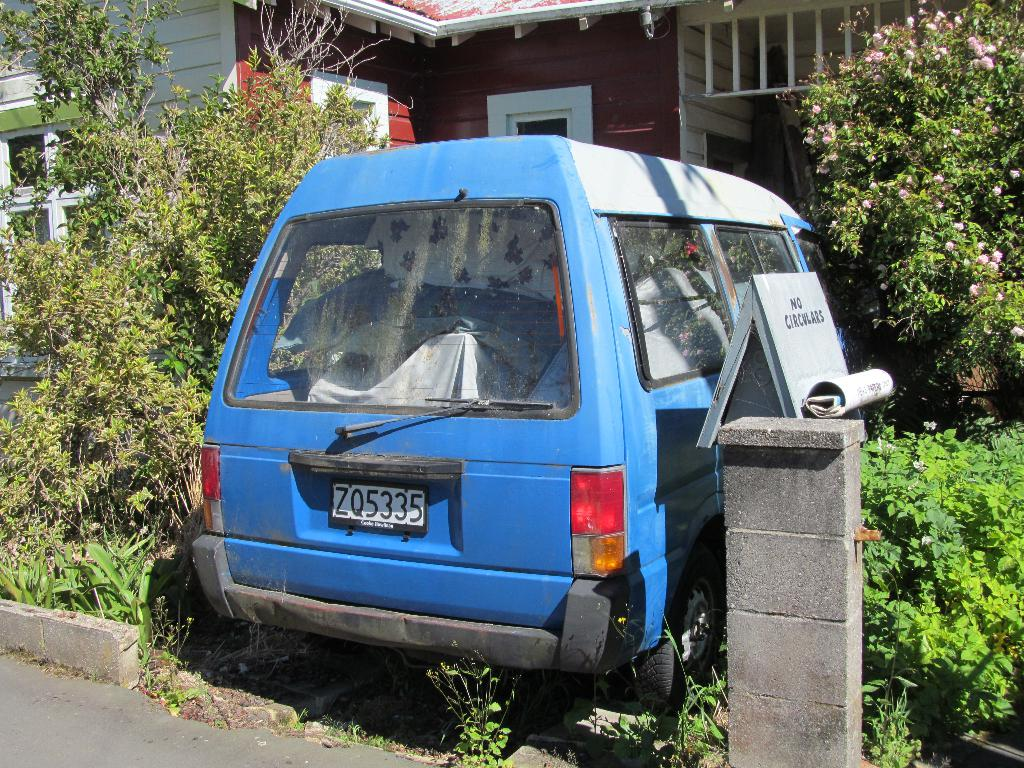license plate: (326, 483, 429, 535)
